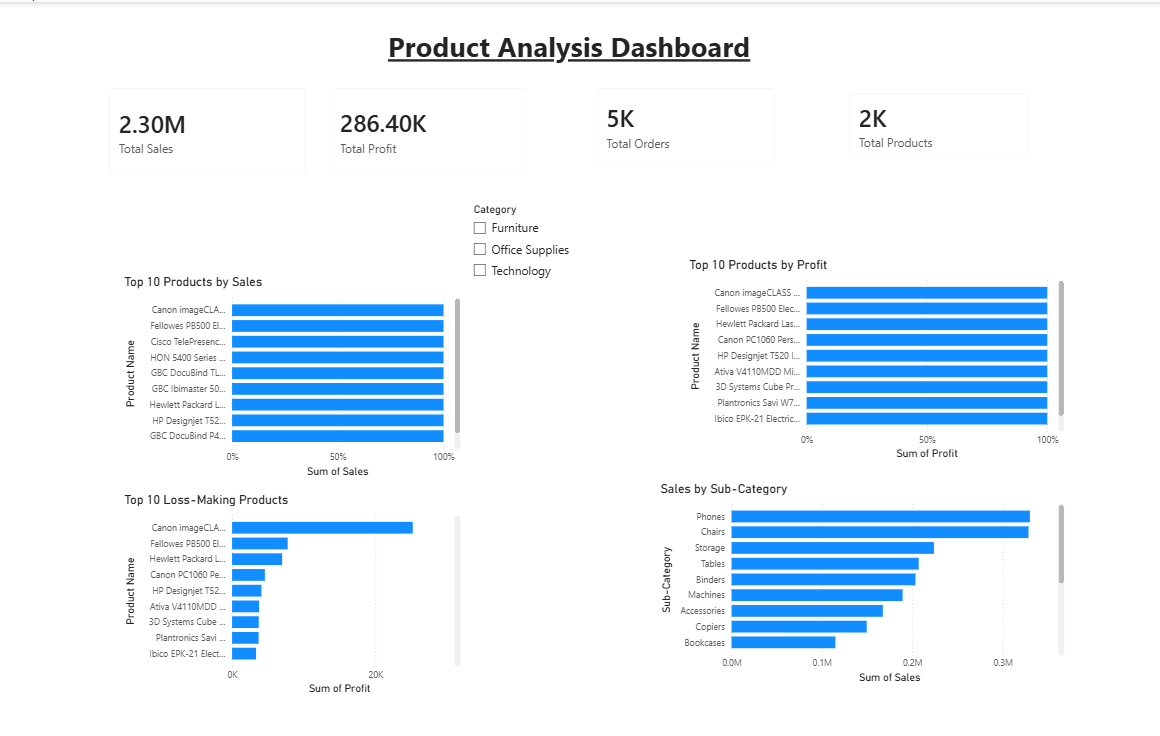

What the dashboard file says about the page in this screenshot:
{"tool":"powerbi","page":{"name":"Product Analysis","canvas":[1580,1000],"ordinal":1},"visuals":[{"type":"hundredPercentStackedBarChart","title":"Top 10 Products by Sales","fields":{"Category":["Superstore.Product Name"],"Y":["Sum(Superstore.Sales)"]},"box":[166.4,370.2,467.1,280.2],"z":0},{"type":"hundredPercentStackedBarChart","title":"Top 10 Products by Profit","fields":{"Category":["Superstore.Product Name"],"Y":["Sum(Superstore.Profit)"]},"box":[934.1,346.5,519.7,280.2],"z":1000},{"type":"clusteredBarChart","title":"Top 10 Loss-Making Products","fields":{"Category":["Superstore.Product Name"],"Y":["Sum(Superstore.Profit)"]},"box":[166.4,665.8,467.1,280.2],"z":2000},{"type":"clusteredBarChart","title":"Sales by Sub-Category","fields":{"Category":["Superstore.Sub-Category"],"Y":["Sum(Superstore.Sales)"]},"box":[895,650.5,558.8,280.2],"z":3000},{"type":"slicer","fields":{"Values":["Superstore.Category"]},"box":[633.5,268.3,281.9,141],"z":4000},{"type":"textbox","box":[524.8,30.6,652.2,74.7],"z":5000},{"type":"cardVisual","fields":{"Data":["Superstore.Total Sales"]},"box":[134.2,100.2,300.6,151.2],"z":6000},{"type":"cardVisual","fields":{"Data":["Superstore.Total Profit"]},"box":[434.8,100.2,300.6,149.5],"z":7000},{"type":"cardVisual","fields":{"Data":["Superstore.Total Orders"]},"box":[796.5,100.2,276.8,135.9],"z":8000},{"type":"cardVisual","fields":{"Data":["Superstore.Total Products"]},"box":[1139.6,107,278.5,120.6],"z":9000}]}

Visuals, with their boxes in screenshot pixels (x1, y1, x2, y2), scaled from the page's 1580x1000 canvas onto the 1160x736 screenshot:
"Top 10 Products by Sales" hundredPercentStackedBarChart: detection(122, 272, 465, 479)
"Top 10 Products by Profit" hundredPercentStackedBarChart: detection(686, 255, 1067, 461)
"Top 10 Loss-Making Products" clusteredBarChart: detection(122, 490, 465, 696)
"Sales by Sub-Category" clusteredBarChart: detection(657, 479, 1067, 685)
slicer - Superstore.Category: detection(465, 197, 672, 301)
textbox: detection(385, 23, 864, 78)
cardVisual - Superstore.Total Sales: detection(99, 74, 319, 185)
cardVisual - Superstore.Total Profit: detection(319, 74, 540, 184)
cardVisual - Superstore.Total Orders: detection(585, 74, 788, 174)
cardVisual - Superstore.Total Products: detection(837, 79, 1041, 168)
